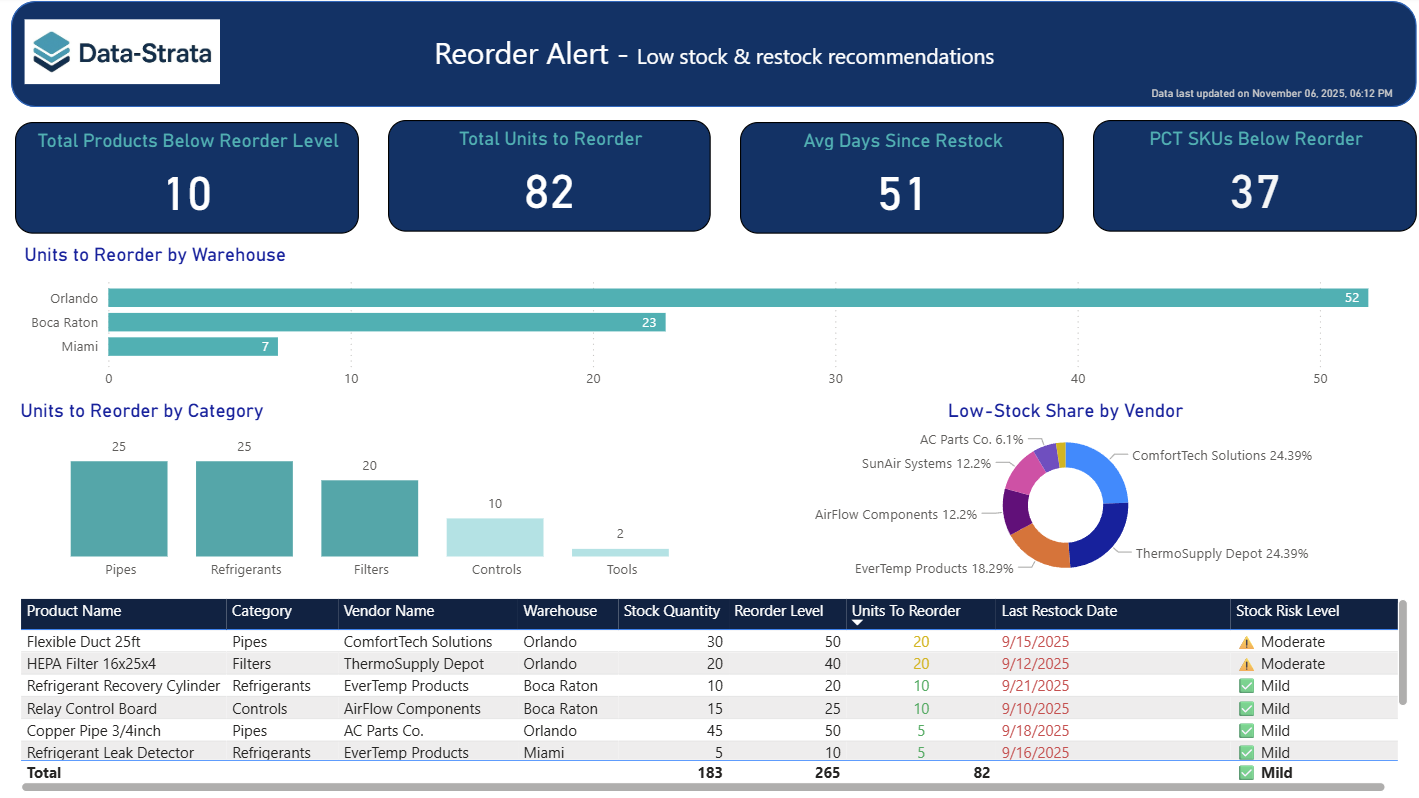

Layout of this report page (visuals, bound fields, positions):
{"tool":"powerbi","page":{"name":"Reorder Alert","canvas":[1280,720],"ordinal":5},"visuals":[{"type":"shape","box":[13.8,3.7,1258.8,95],"z":0,"group":"g1"},{"type":"card","title":"Total Units to Reorder","fields":{"Values":["_Measures.Total Units to Reorder"]},"box":[351.1,109.9,289.3,100],"z":0},{"type":"textbox","box":[339.4,26.2,607.5,51.2],"z":1000,"group":"g1"},{"type":"card","title":"Avg Days Since Restock","fields":{"Values":["_Measures.Avg Days Since Restock"]},"box":[666.4,111.8,290,100],"z":1000},{"type":"image","box":[20.9,0,185.1,98.2],"z":2000,"group":"g1"},{"type":"card","title":"PCT SKUs Below Reorder","fields":{"Values":["_Measures.Pct SKUs Below Reorder"]},"box":[982.4,110.1,290.1,100.3],"z":2000},{"type":"group","id":"g1","title":"Group 1","box":[13.8,0,1258.8,98.8],"z":3000},{"type":"card","fields":{"Values":["_Measures.Last Refresh"]},"box":[1022.7,76.1,240,22.4],"z":4000},{"type":"card","title":"Total Products Below Reorder Level","fields":{"Values":["_Measures.Total Products Below Reorder"]},"box":[17,111.9,308.1,100],"z":5000},{"type":"tableEx","fields":{"Values":["vw_ReorderAlerts.ProductName","vw_ReorderAlerts.Category","vw_ReorderAlerts.VendorName","vw_ReorderAlerts.Warehouse","Sum(vw_ReorderAlerts.StockQty)","Sum(vw_ReorderAlerts.ReorderLevel)","Sum(vw_ReorderAlerts.UnitsToReorder)","vw_ReorderAlerts.LastRestockDate","_Measures.Stock Risk Level (Reorder Alert)"]},"box":[13.4,531,1259.1,189],"z":6000},{"type":"barChart","title":"Units to Reorder by Warehouse","fields":{"Category":["vw_ReorderAlerts.Warehouse"],"Y":["_Measures.Units to Reorder by Warehouse"]},"box":[20.6,220.3,1242.1,139.7],"z":7000},{"type":"columnChart","title":"Units to Reorder by Category","fields":{"Category":["vw_ReorderAlerts.Category"],"Y":["_Measures.Units to Reorder by Category"]},"box":[17,360,638.5,171],"z":8000},{"type":"donutChart","title":"Low-Stock Share by Vendor","fields":{"Y":["Sum(vw_ReorderAlerts.UnitsToReorder)"],"Category":["vw_ReorderAlerts.VendorName"]},"box":[652.8,360,609.9,171],"z":9000}]}

Visuals, with their boxes in screenshot pixels (x1, y1, x2, y2), scaled from the page's 1280x720 canvas onto the 1419x798 screenshot:
shape: BBox(15, 4, 1411, 109)
"Total Units to Reorder" card: BBox(389, 122, 710, 233)
textbox: BBox(376, 29, 1050, 86)
"Avg Days Since Restock" card: BBox(739, 124, 1060, 235)
image: BBox(23, 0, 228, 109)
"PCT SKUs Below Reorder" card: BBox(1089, 122, 1411, 233)
"Group 1" group: BBox(15, 0, 1411, 110)
card - _Measures.Last Refresh: BBox(1134, 84, 1400, 109)
"Total Products Below Reorder Level" card: BBox(19, 124, 360, 235)
tableEx - vw_ReorderAlerts.ProductName x vw_ReorderAlerts.Category: BBox(15, 589, 1411, 797)
"Units to Reorder by Warehouse" barChart: BBox(23, 244, 1400, 399)
"Units to Reorder by Category" columnChart: BBox(19, 399, 727, 589)
"Low-Stock Share by Vendor" donutChart: BBox(724, 399, 1400, 589)
